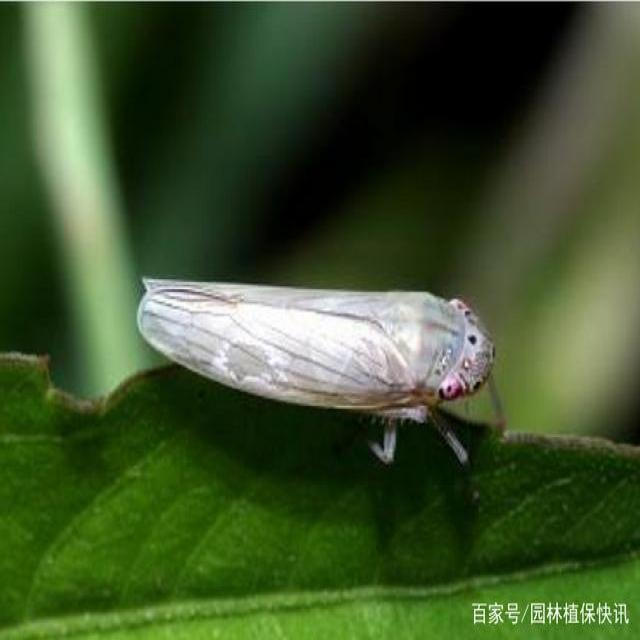Yechan: (135, 264, 504, 462)
